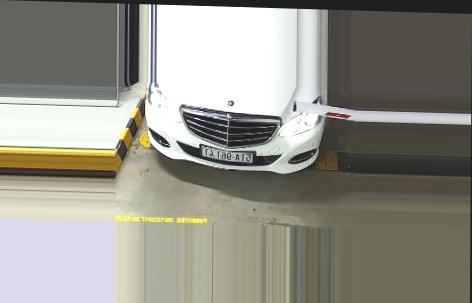License_Plate: (201, 148, 255, 167)
